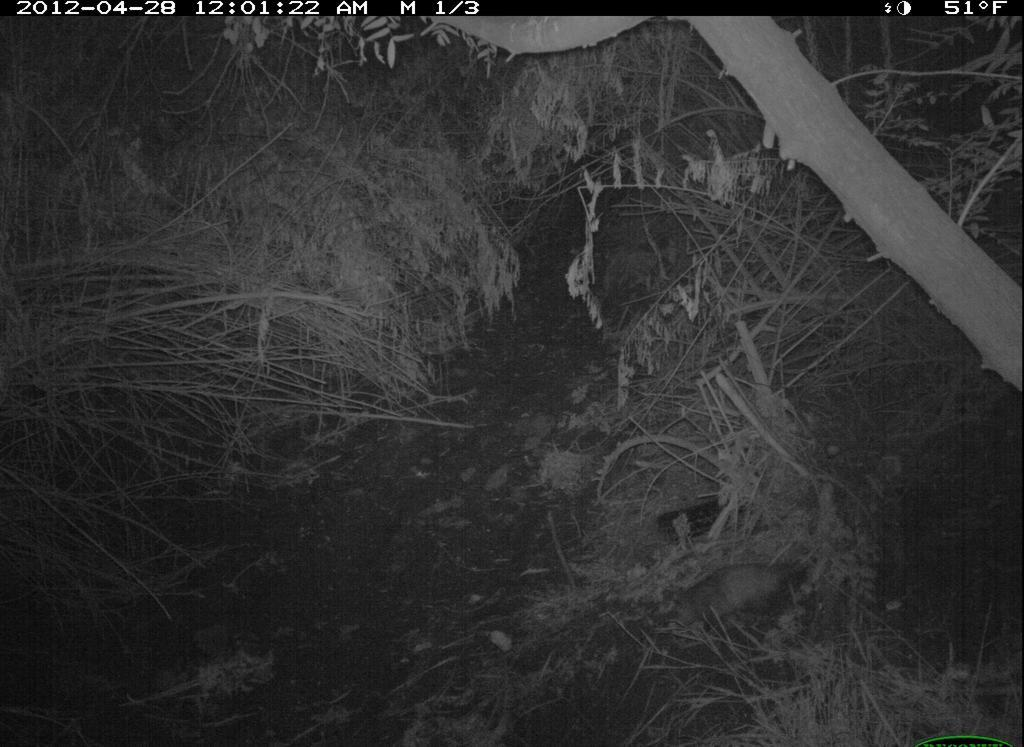opossum: (658, 538, 827, 639)
